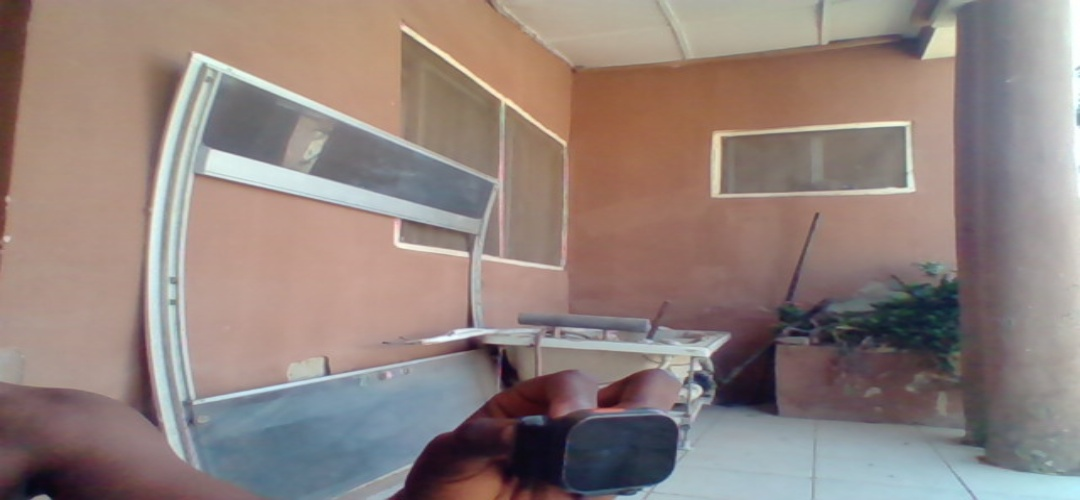smart_watch: (526, 407, 688, 498)
